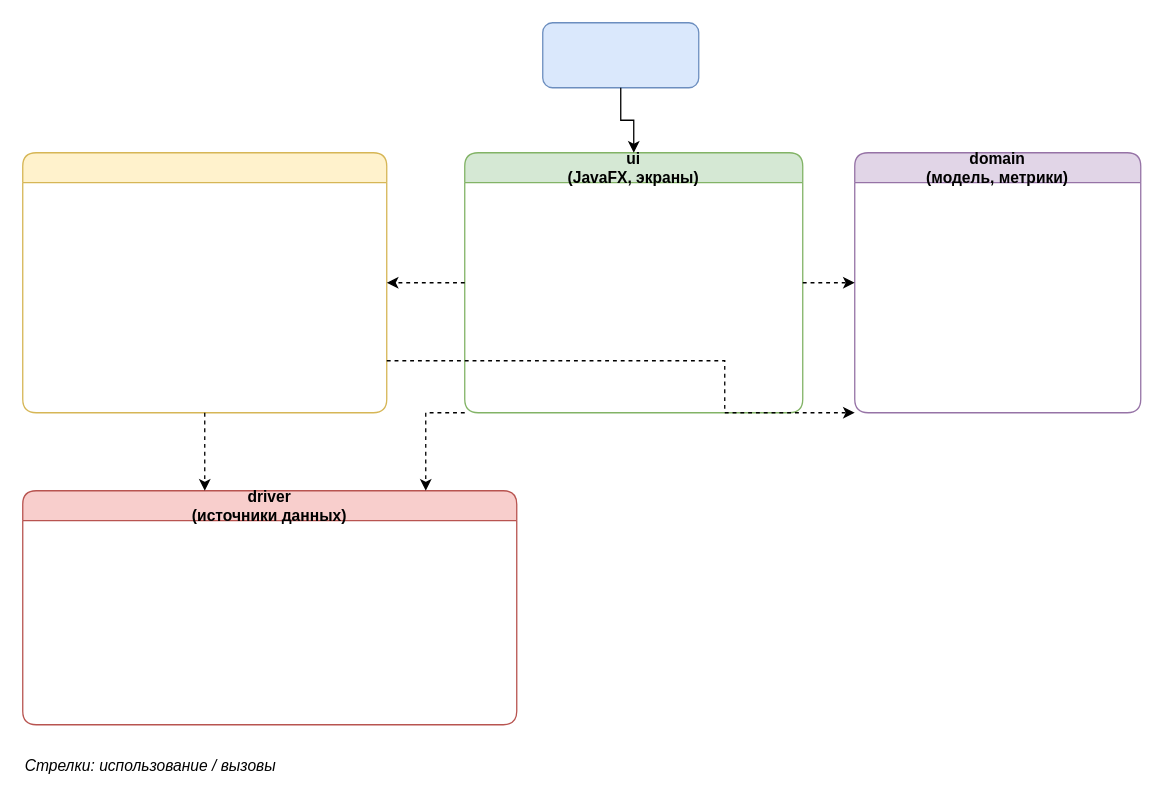
The diagram is 1164 pixels wide and 805 high, and some of its shapes have lost their labels. Here are the shapes that lost their labels. From the top down, the centre of each, then its label:
the point at 620,54: App.kt Точка входа
the point at 204,282: app (приложение, настройки, API)
